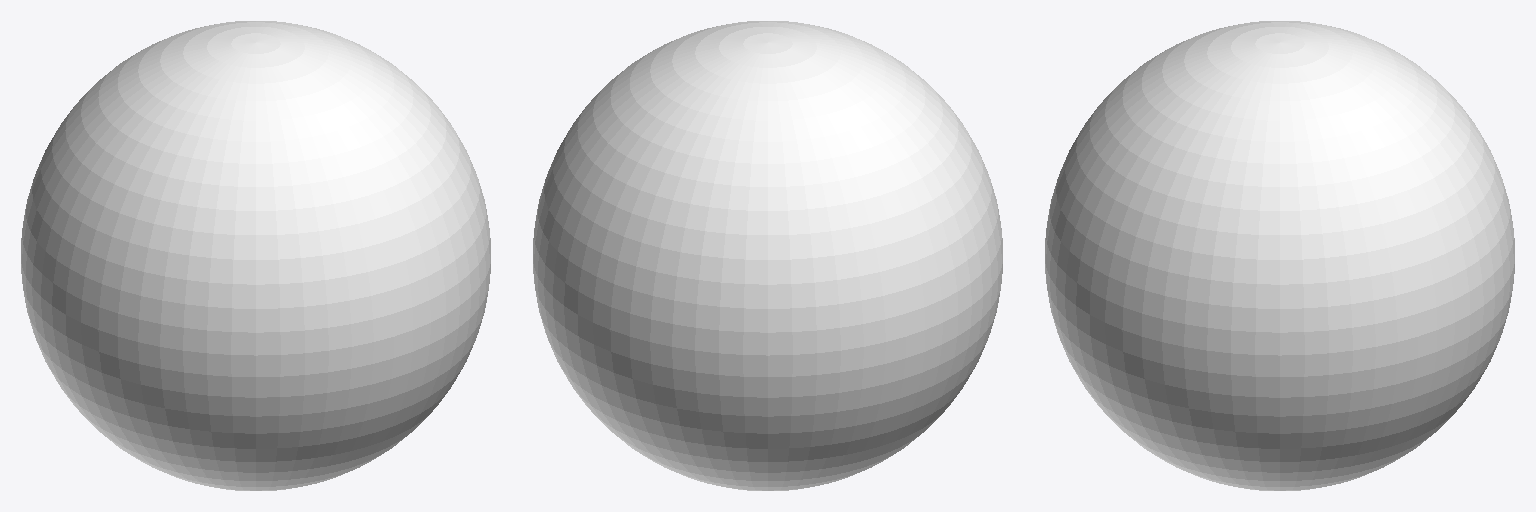
The model's file is sun.obj.
The picture shows the model from 3 angles: view 1: azimuth 30°, elevation 25°; view 2: azimuth 150°, elevation 25°; view 3: azimuth 270°, elevation 25°; orthographic projection.
Size of the model in its own units: 40000 by 40000 by 40000.